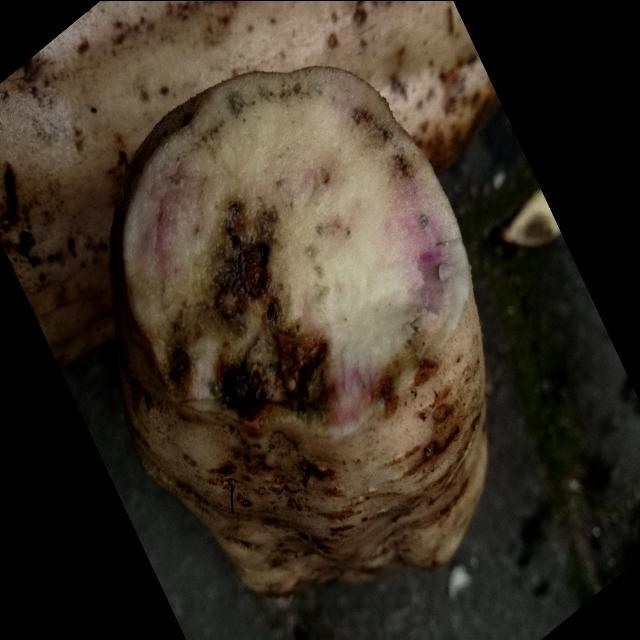Sick Sweet Potato_Tuber Rot: (112, 67, 470, 438)
